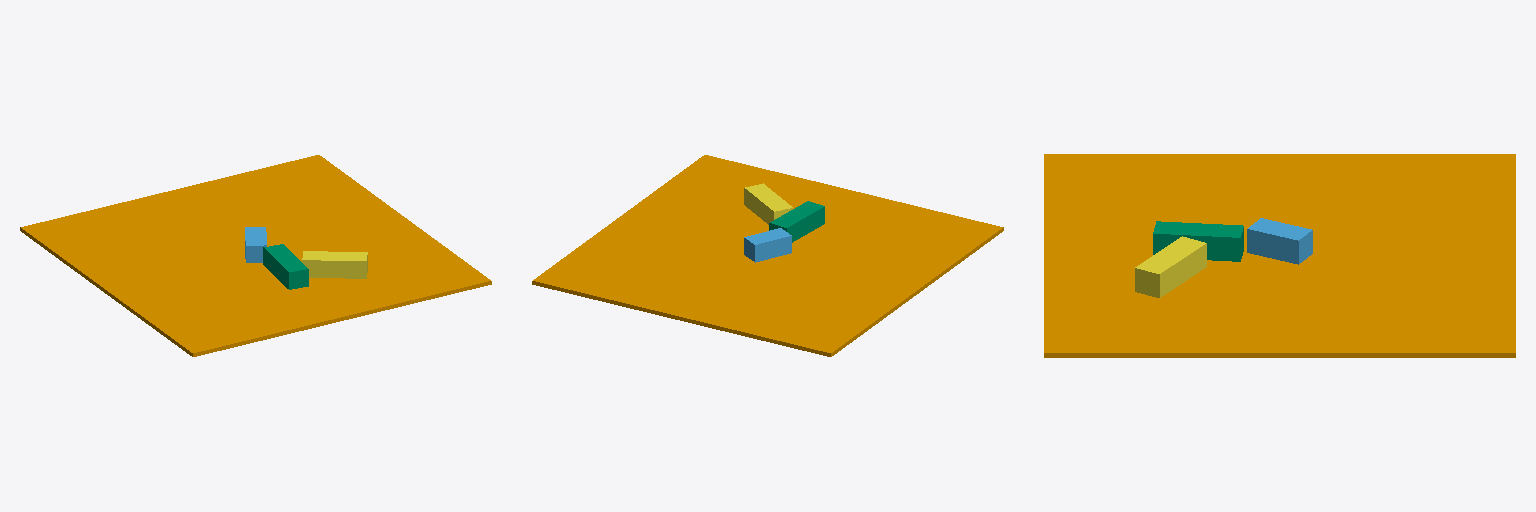
URDF robot description (sampleworld):
<?xml version="1.0"?>
<!-- created with Phobos 1.0.1 "Capricious Choutengan" -->
  <robot name="sampleworld">

    <link name="base_link">
      <inertial>
        <origin xyz="0 0 0" rpy="0 0 0"/>
        <mass value="0.001"/>
        <inertia ixx="0.001" ixy="0" ixz="0" iyy="0.001" iyz="0" izz="0.001"/>
      </inertial>
      <visual name="visual_cube_base">
        <origin xyz="0 0 0" rpy="0 0 0"/>
        <geometry>
          <box size="16.0 16.0 0.2"/>
        </geometry>
      </visual>
      <collision name="collision_cube_base">
        <origin xyz="0 0 0" rpy="0 0 0"/>
        <geometry>
          <box size="16.0 16.0 0.2"/>
        </geometry>
      </collision>
    </link>

    <link name="link0">
      <inertial>
        <origin xyz="0 0 0" rpy="0 0 0"/>
        <mass value="0.001"/>
        <inertia ixx="0.001" ixy="0" ixz="0" iyy="0.001" iyz="0" izz="0.001"/>
      </inertial>
      <visual name="visual_cube0">
        <origin xyz="0 0 0" rpy="0 0 0"/>
        <geometry>
          <box size="1.0 1.0 2.0"/>
        </geometry>
      </visual>
      <collision name="collision_cube0">
        <origin xyz="0 0 0" rpy="0 0 0"/>
        <geometry>
          <box size="1.0 1.0 2.0"/>
        </geometry>
      </collision>
    </link>

    <link name="link1">
      <inertial>
        <origin xyz="0 0 0" rpy="0 0 0"/>
        <mass value="0.001"/>
        <inertia ixx="0.001" ixy="0" ixz="0" iyy="0.001" iyz="0" izz="0.001"/>
      </inertial>
      <visual name="visual_cube1">
        <origin xyz="0 0 0" rpy="0 0 0"/>
        <geometry>
          <box size="3.0 1.0 1.0"/>
        </geometry>
      </visual>
      <collision name="collision_cube1">
        <origin xyz="0 0 0" rpy="0 0 0"/>
        <geometry>
          <box size="3.0 1.0 1.0"/>
        </geometry>
      </collision>
    </link>

    <link name="link2">
      <inertial>
        <origin xyz="0 0 0" rpy="0 0 0"/>
        <mass value="0.001"/>
        <inertia ixx="0.001" ixy="0" ixz="0" iyy="0.001" iyz="0" izz="0.001"/>
      </inertial>
      <visual name="visual_cube2">
        <origin xyz="0 0 0" rpy="0 0 0"/>
        <geometry>
          <box size="3.0 1.0 1.0"/>
        </geometry>
      </visual>
      <collision name="collision_cube2">
        <origin xyz="0 0 0" rpy="0 0 0"/>
        <geometry>
          <box size="3.0 1.0 1.0"/>
        </geometry>
      </collision>
    </link>

    <joint name="link0" type="prismatic">
      <origin xyz="0 0 0.5" rpy="-1.5708 0 2.64253"/>
      <parent link="base_link"/>
      <child link="link0"/>
      <axis xyz="0 0 1.0"/>
      <limit lower="0" upper="2.02255" effort="0" velocity="0"/>
    </joint>

    <joint name="link1" type="revolute">
      <origin xyz="0.02182 -2.76373 0.5" rpy="0 0 -1.68642"/>
      <parent link="base_link"/>
      <child link="link1"/>
      <axis xyz="0 0 1.0"/>
      <limit lower="0" upper="2.8855" effort="0" velocity="0"/>
    </joint>

    <joint name="link2" type="revolute">
      <origin xyz="2.09437 -3.70985 0.5" rpy="0 0 2.57551"/>
      <parent link="base_link"/>
      <child link="link2"/>
      <axis xyz="0 0 1.0"/>
      <limit lower="0" upper="1.59781" effort="0" velocity="0"/>
    </joint>

  </robot>

--- What the picture shows (computed from the rendered views, not written in the file) ---
Views: 3 orthographic renders of the robot side by side, from view 1: azimuth 30°, elevation 25°; view 2: azimuth 150°, elevation 25°; view 3: azimuth 270°, elevation 25°.
Model sampleworld with 4 links and 3 joints (2 revolute, 1 prismatic), rooted at base_link, posed every joint at zero.
Links seen in each view (by area): view 1: base_link, link2, link1, link0; view 2: base_link, link1, link0, link2; view 3: base_link, link2, link1, link0.
Link boxes in pixels (x1,y1,x2,y2): base_link: [20, 155, 491, 356]; link2: [302, 251, 367, 278]; link1: [263, 244, 308, 289]; link0: [245, 227, 266, 262]; base_link: [532, 155, 1003, 356]; link1: [769, 201, 824, 242]; link0: [744, 228, 791, 262]; link2: [744, 183, 792, 224]; base_link: [1044, 154, 1515, 357]; link2: [1135, 236, 1206, 297]; link1: [1153, 221, 1243, 261]; link0: [1247, 218, 1312, 264].
Size in the robot's own frame: 16 by 16 by 1.1 metres.
Geometry: primitives only (box / cylinder / sphere), no mesh files.